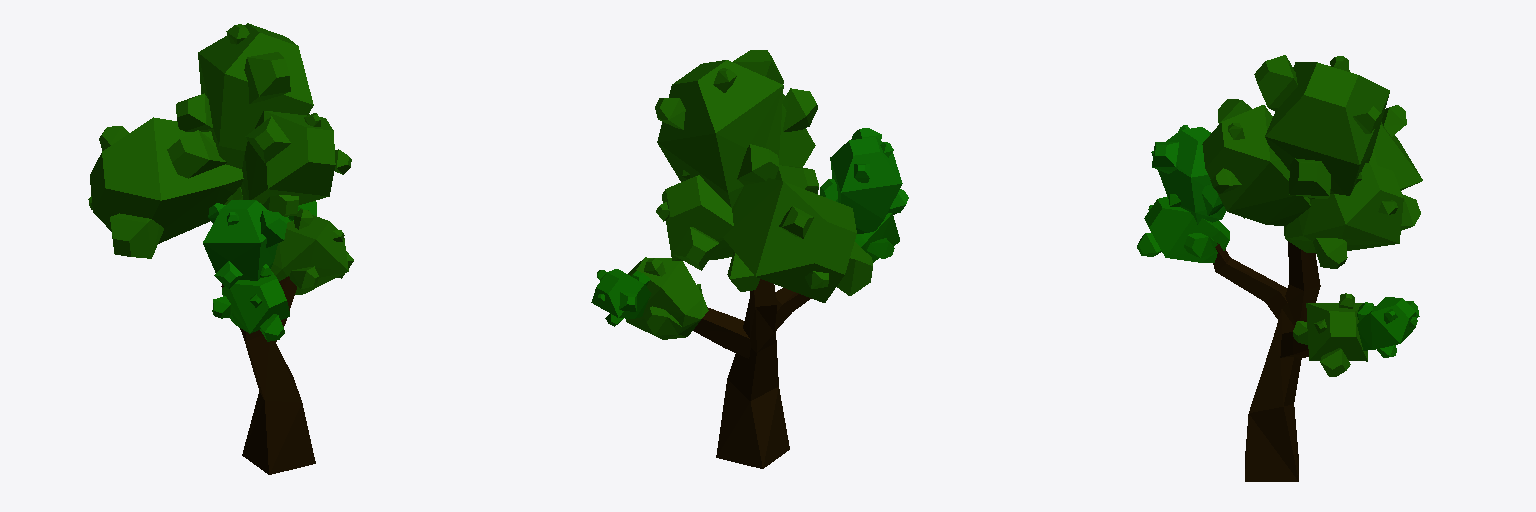
File: tree.obj
The picture shows the model from 3 angles: view 1: azimuth 30°, elevation 25°; view 2: azimuth 150°, elevation 25°; view 3: azimuth 270°, elevation 25°; orthographic projection.
Parts seen in each view (by area): view 1: Tree; view 2: Tree; view 3: Tree.
Part boxes in pixels (bbox=[...]): Tree: bbox=[88, 23, 353, 474]; Tree: bbox=[591, 50, 908, 468]; Tree: bbox=[1137, 55, 1422, 481].
Size of the model in its own units: 10.59 by 16.73 by 10.6.